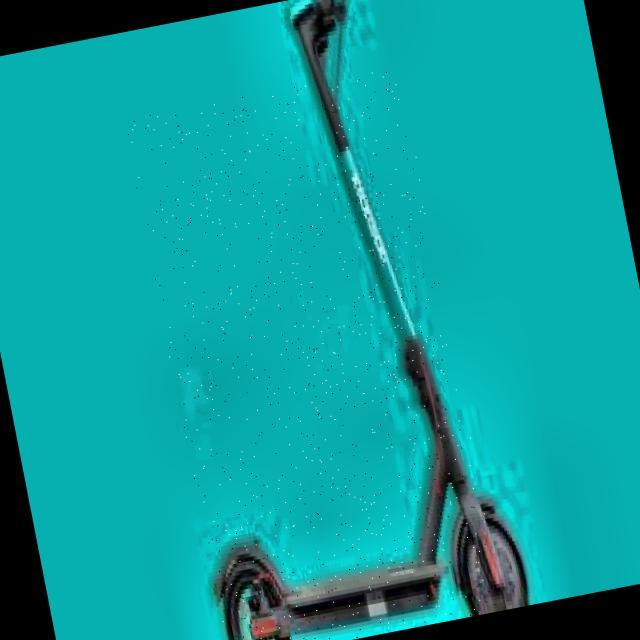bike: (212, 335, 529, 640)
